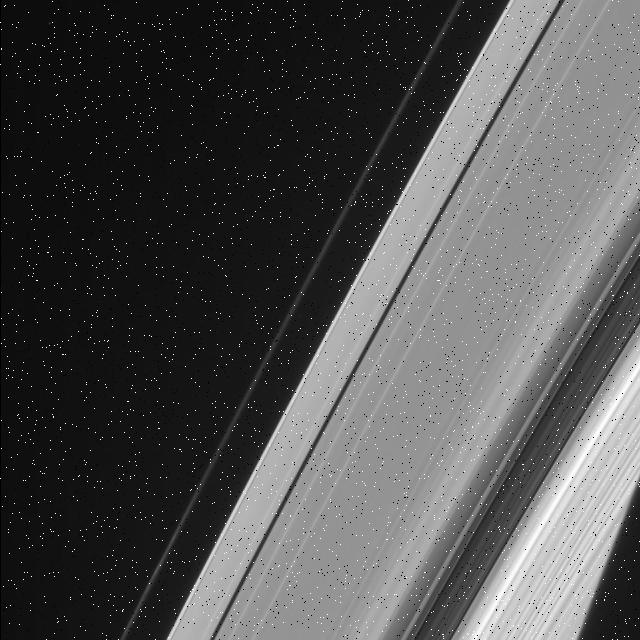Saturn: (100, 0, 640, 640)
